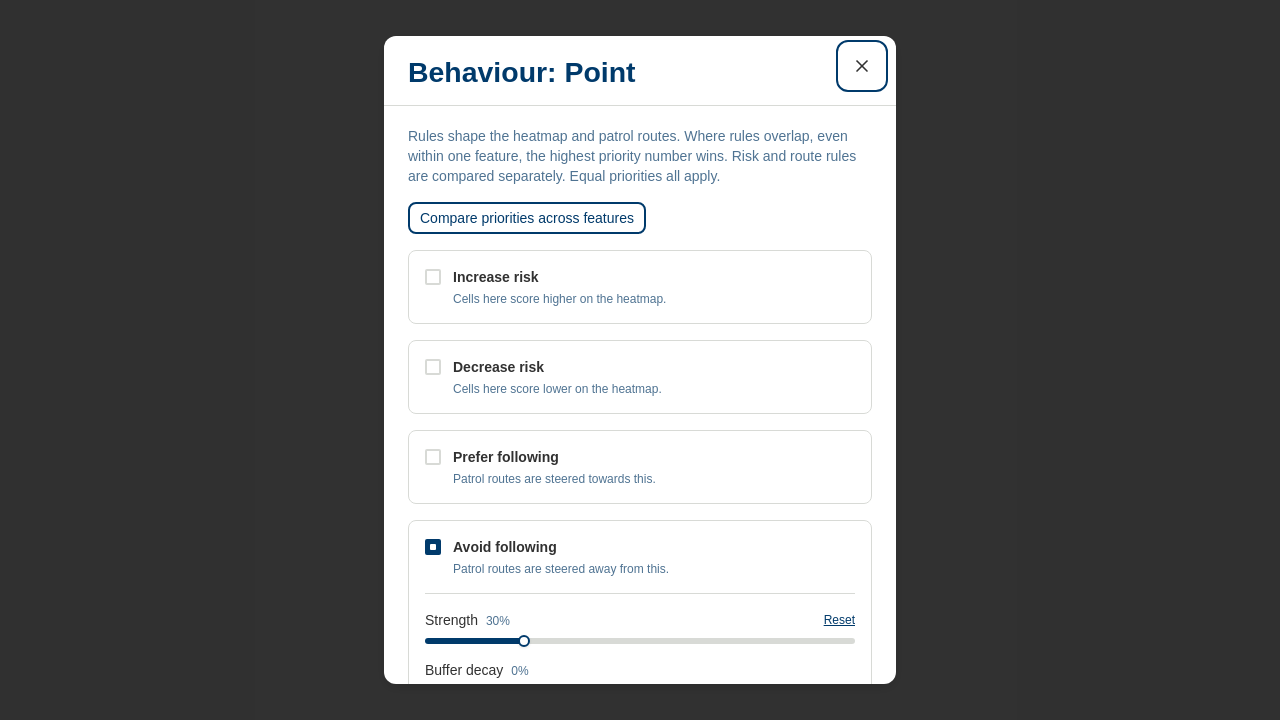
Scenario: RuleEditorDialog for a feature › resets an overridden property back to the inherited value
What coordinates should you click on to do the following:
click the button with aria-label "Reset Avoid following strength"
I would click on:
 (839, 620)
Its box is [824, 612, 855, 628].
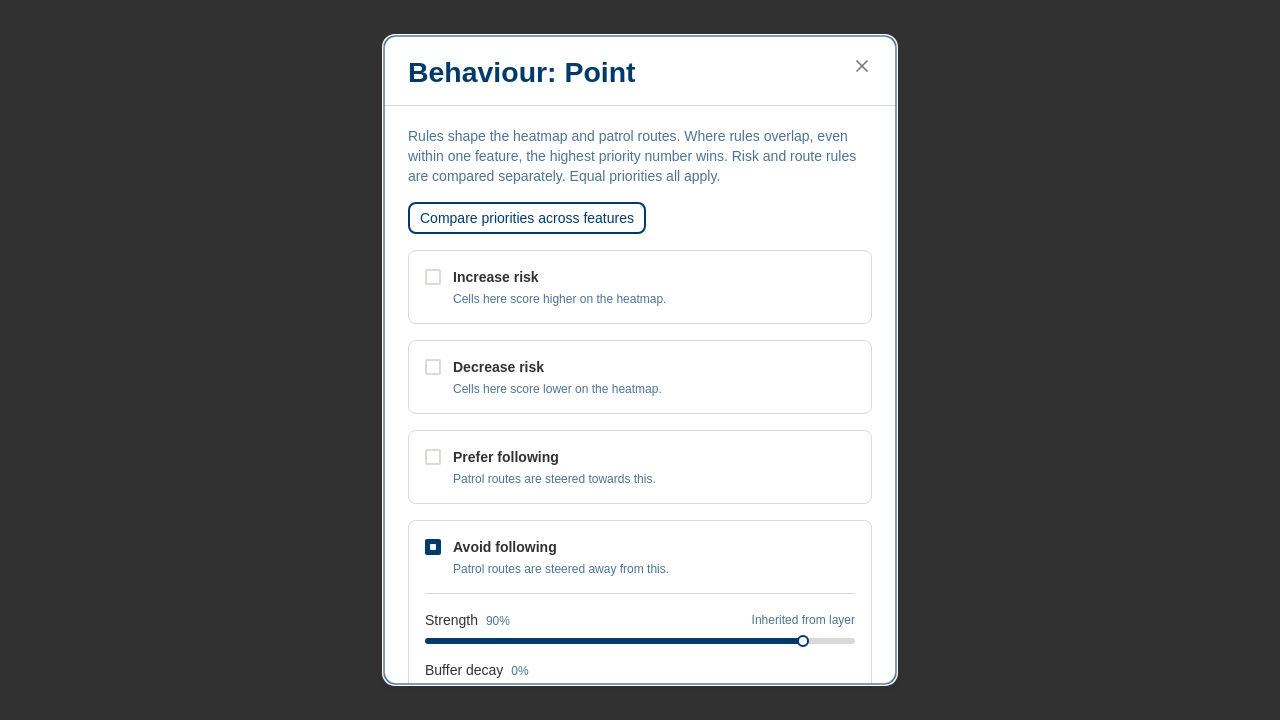
Result: the slider named "Avoid following strength" holds "90" at [425, 638, 855, 644]
